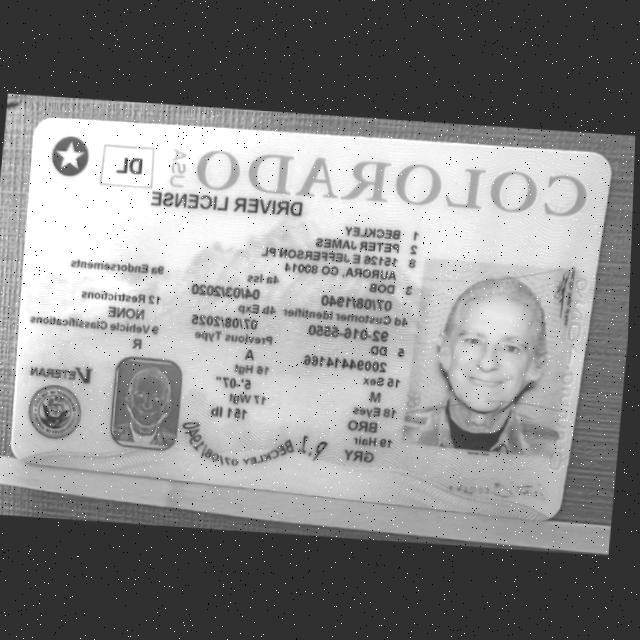card: (11, 120, 609, 519)
